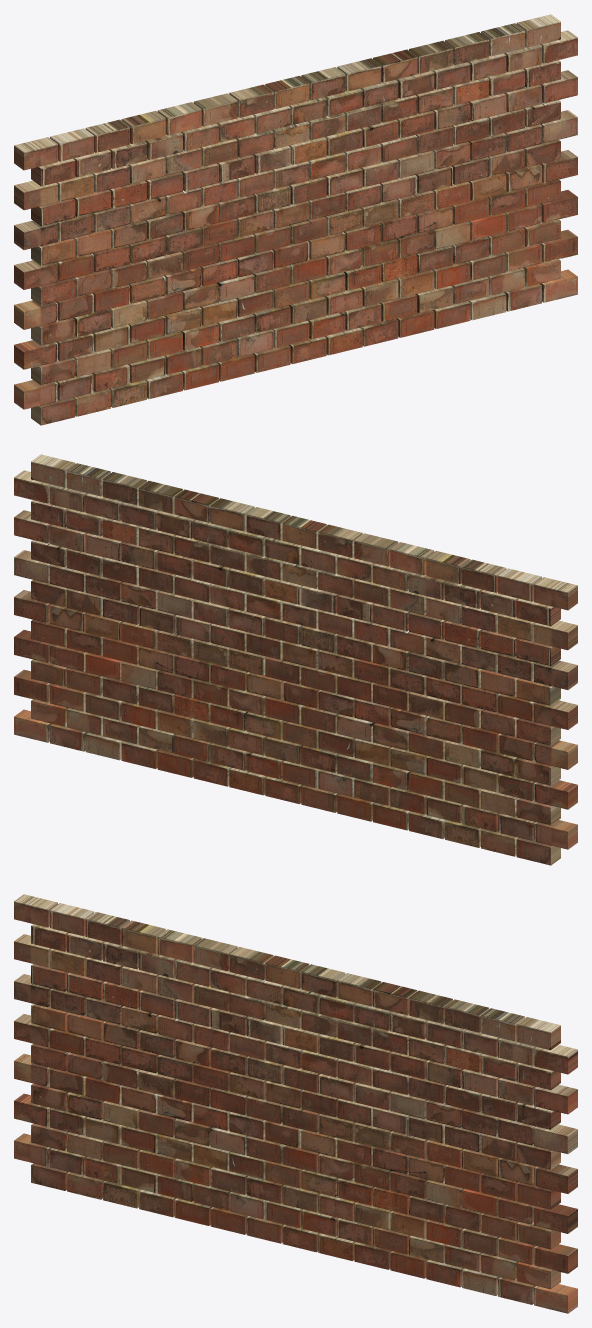
The picture shows the model from 3 angles, top to bottom: view 1: azimuth 30°, elevation 25°; view 2: azimuth 150°, elevation 25°; view 3: azimuth 330°, elevation 25°; orthographic projection.
Visible parts, largest first — view 1: Bricks; view 2: Bricks; view 3: Bricks.
Part boxes in pixels (left/top/right/bottom): Bricks: left=14, top=14, right=577, bottom=425; Bricks: left=14, top=454, right=577, bottom=865; Bricks: left=14, top=894, right=577, bottom=1313.
Size of the model in its own units: 12.96 by 6.19 by 0.4.
Materials: 1 (1 with a texture image).
